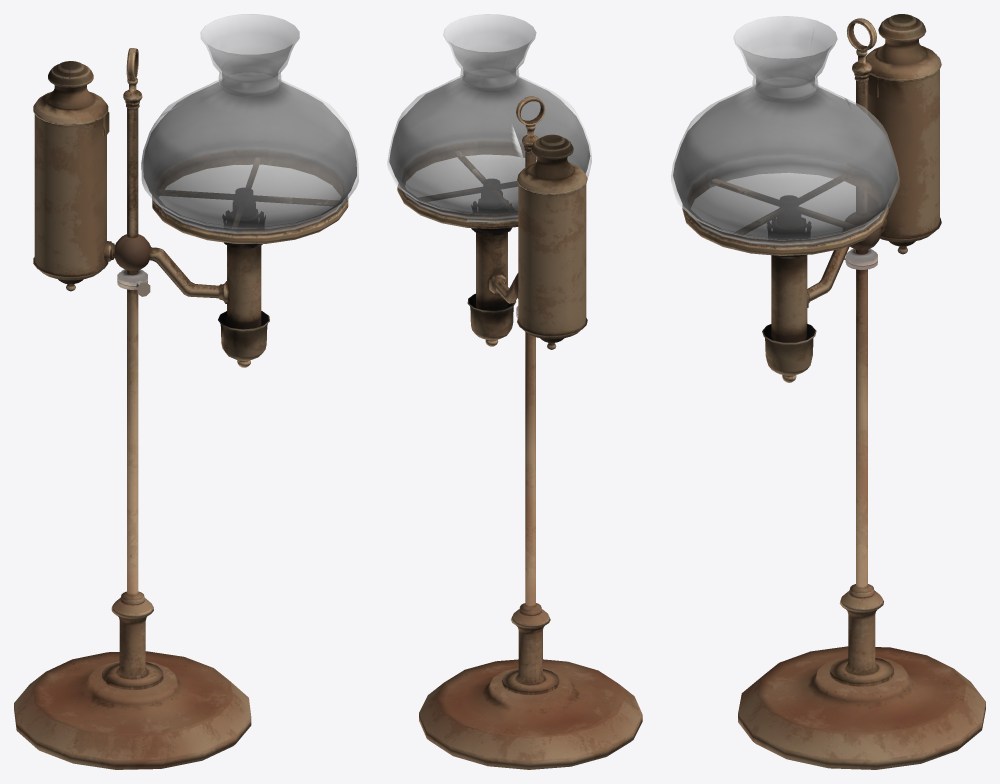
The model's file is victorian-oil-lamp.glb.
3 views of the same model, side by side, from view 1: azimuth 30°, elevation 25°; view 2: azimuth 150°, elevation 25°; view 3: azimuth 270°, elevation 25° (orthographic). The views are drawn at different scales.
Visible parts, largest first — view 1: Object_2; view 2: Object_2; view 3: Object_2.
Boxes of the visible parts, x1,y1,x2,y2 form: Object_2: (14,14,358,769); Object_2: (387,14,642,769); Object_2: (671,14,985,769).
Bounding box in the file's own units: 22.8 × 54.24 × 21.41.
1 material, 1 textured.
